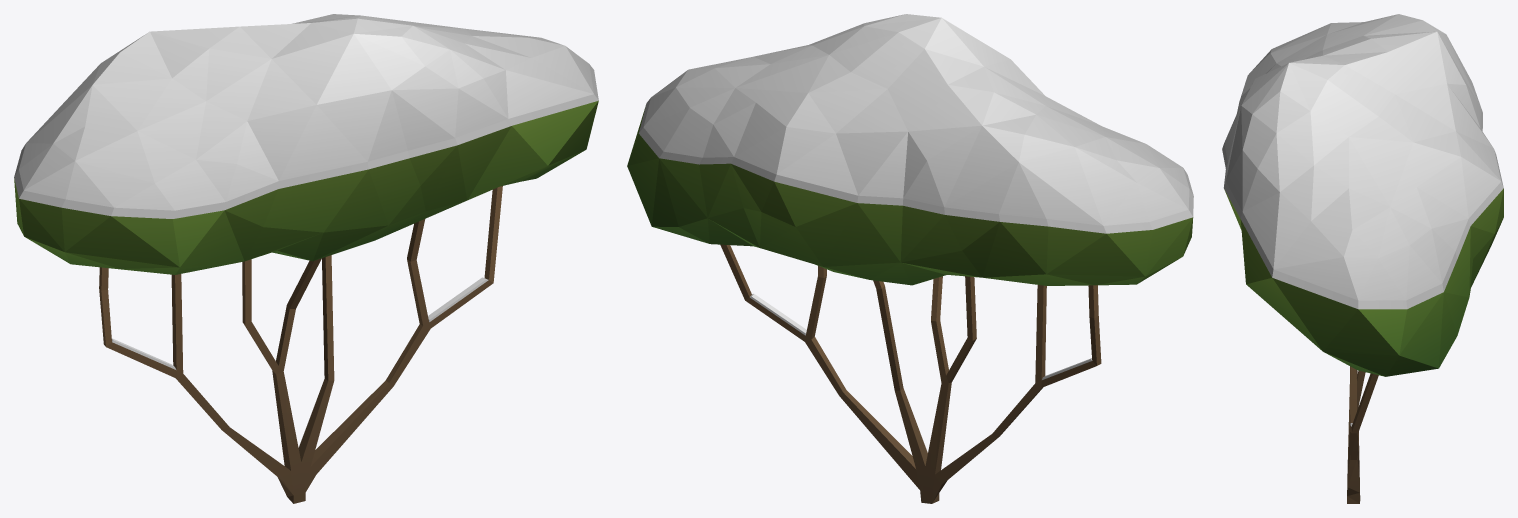
Rendered from Winter_Plant.glb.
3 views of the same model, side by side, from view 1: azimuth 30°, elevation 25°; view 2: azimuth 150°, elevation 25°; view 3: azimuth 270°, elevation 25° (orthographic). The views are drawn at different scales.
Visible parts, largest first — view 1: Winter_Plant_LOD0; view 2: Winter_Plant_LOD0; view 3: Winter_Plant_LOD0.
Boxes of the visible parts, <box> form: Winter_Plant_LOD0: <box>14,14,598,503</box>; Winter_Plant_LOD0: <box>627,14,1193,503</box>; Winter_Plant_LOD0: <box>1222,14,1503,503</box>.
Size of what is drawn, in the model's own units: 1.82 by 1.46 by 0.8294.
1 material, 1 textured.
